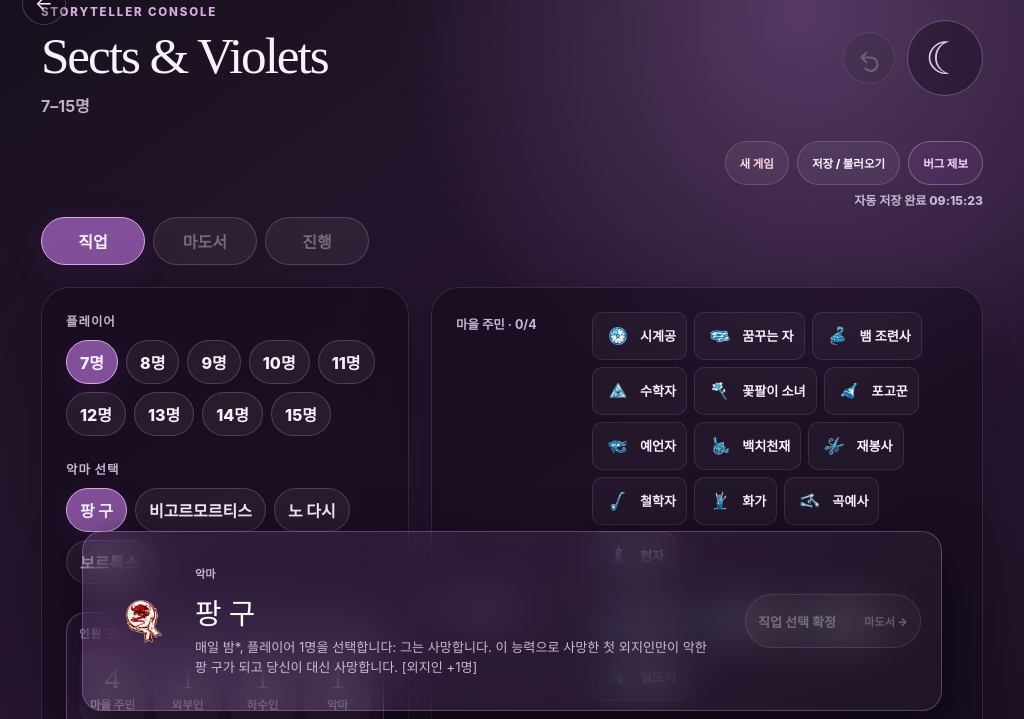
uses the approved setup, Grimoire, and progression shell on the production S&V route
Check: the button "직업" is shown, box top-left (41, 217), bottom-right (145, 265)
Check: the button "마도서" is shown, box top-left (153, 217), bottom-right (257, 265)
Click the button "저장 / 불러오기" at (848, 163), box top-left (797, 141), bottom-right (900, 185)
(page scrolled)
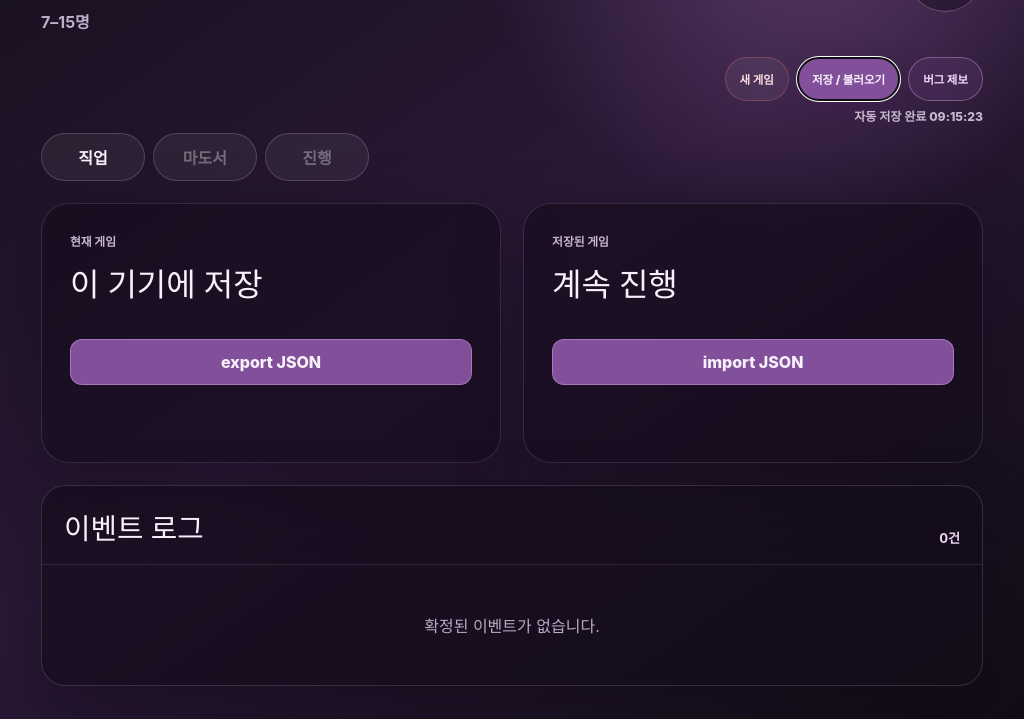
Check: the text "0건" is shown, box top-left (939, 528), bottom-right (960, 547)
Check: the text "확정된 이벤트가 없습니다." is shown, box top-left (424, 616), bottom-right (600, 636)
